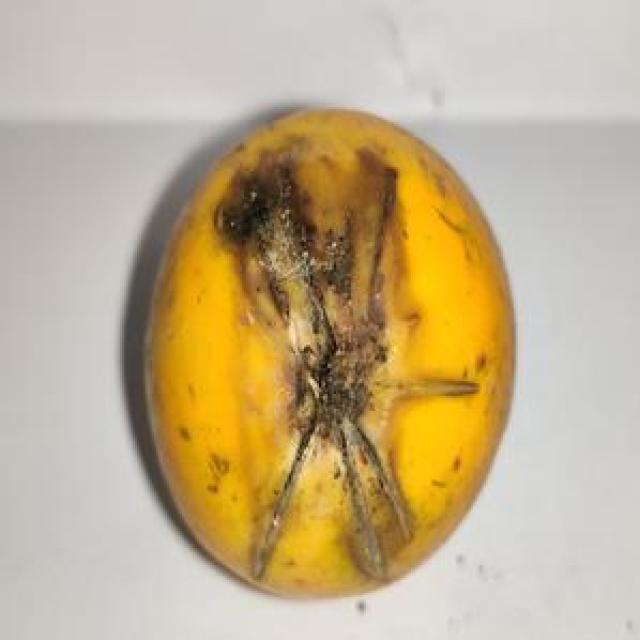damaged: (131, 109, 516, 601)
